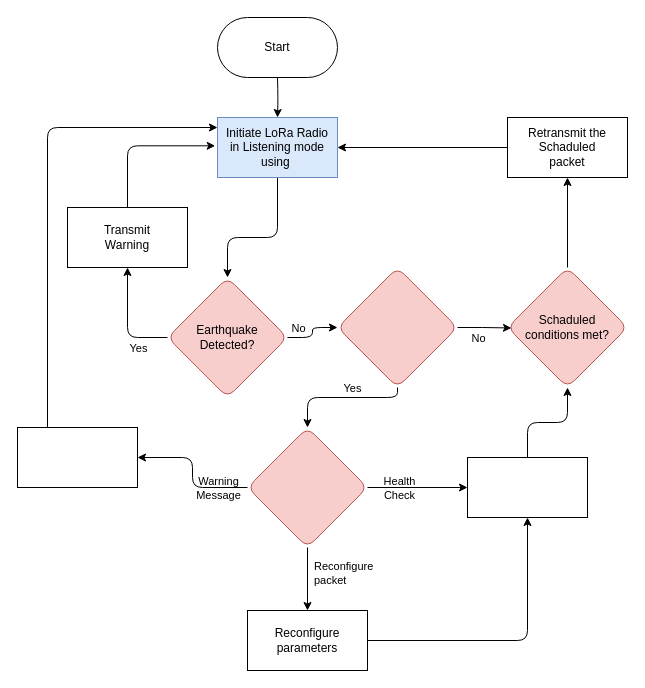
The diagram is 645 pixels wide and 688 high, and some of its shapes have lost their labels. The shapes that lost their labels are listed below. From the top down, each one's centre as x and y in pixels, then its label:
the point at 397,327: Packet Received?
the point at 77,457: Notify the residance
the point at 307,487: What is the Packet type?
the point at 527,487: Schedule a packet
